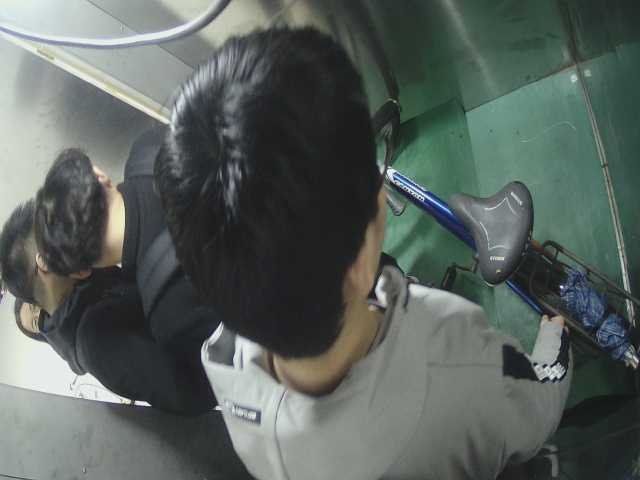bicycle: (356, 97, 627, 379)
person: (160, 41, 564, 480), (6, 144, 187, 401)
